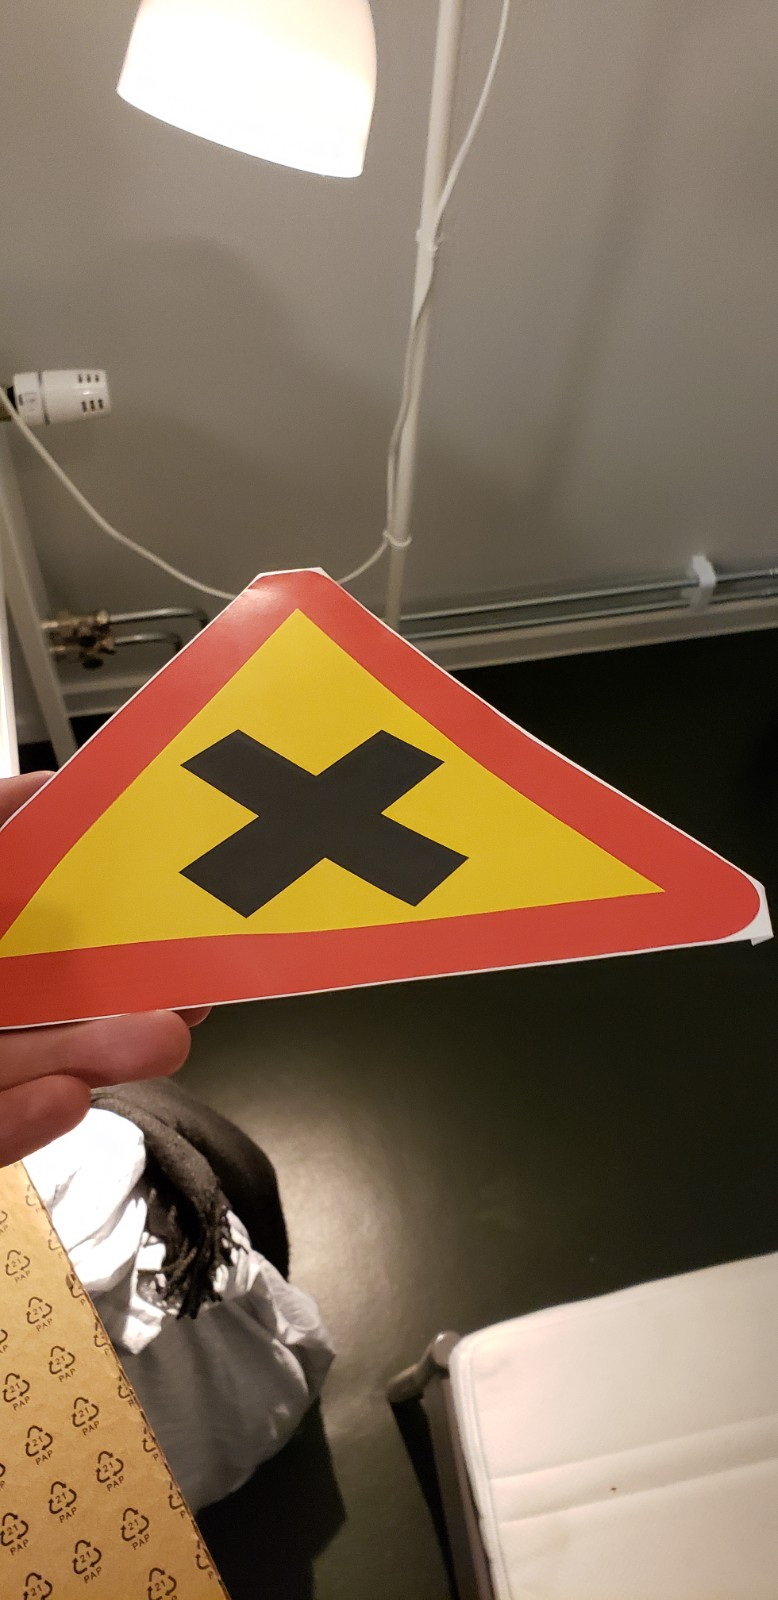junction: (18, 578, 778, 1159)
